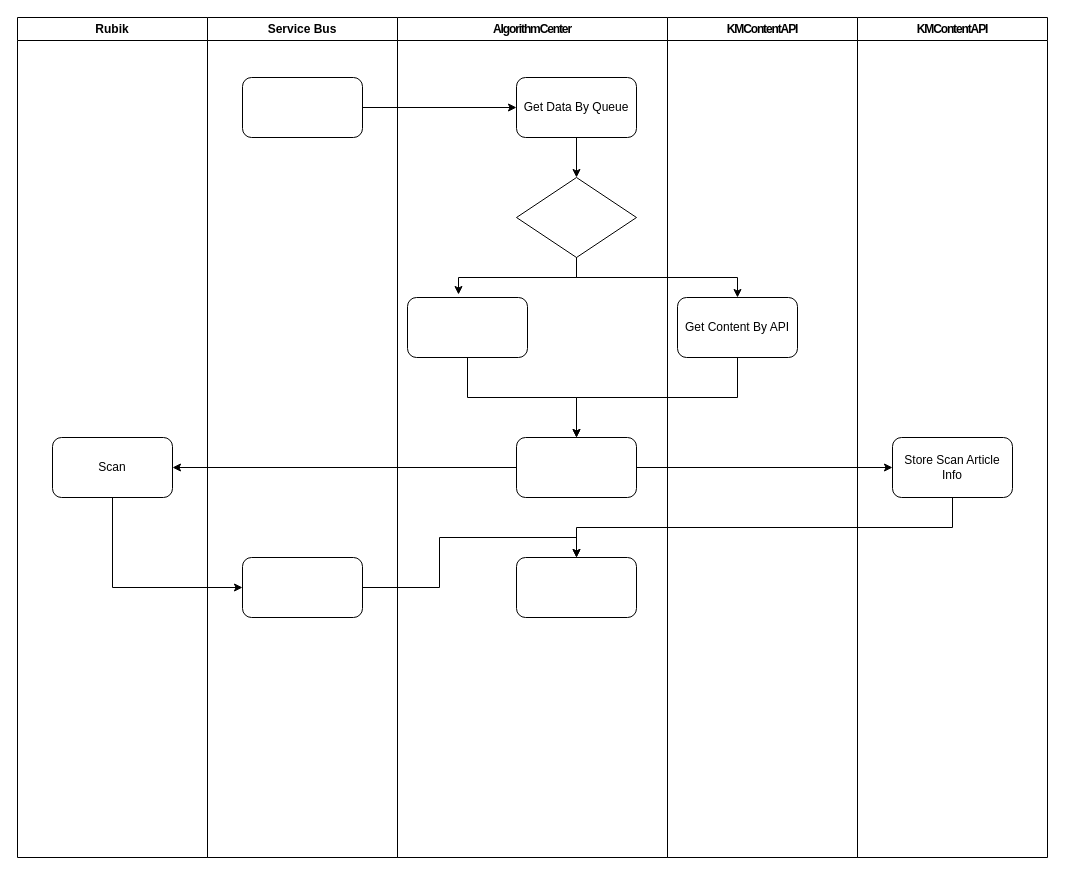
Some shapes in this 1065 by 875 pixel diagram are drawn without their labels. The centre of each missing label's shape, as x and y in pixels:
"Get Content" goes at pixel 576 217.
"Get Content By Storage" goes at pixel 467 327.
"QualityCheckQueue" goes at pixel 302 107.
"ScanResult" goes at pixel 302 587.
"Submit Scan Request" goes at pixel 576 467.
